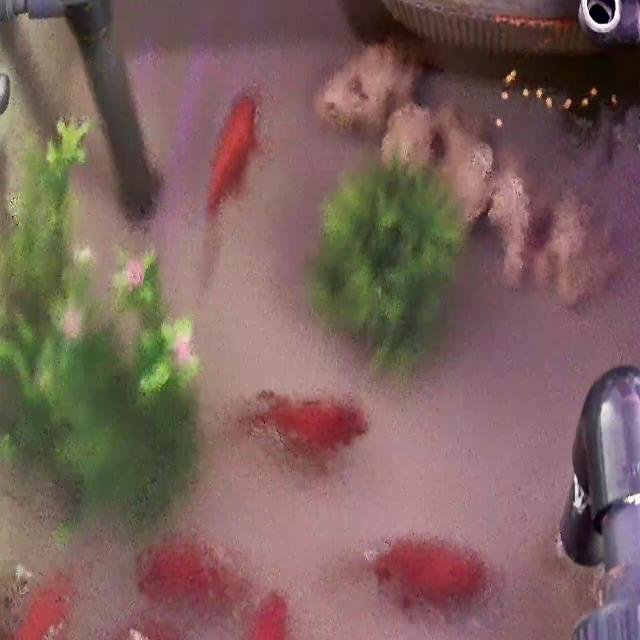fish: (366, 535, 483, 613), (239, 388, 362, 461), (133, 539, 248, 614), (204, 90, 259, 220), (0, 569, 75, 640), (225, 589, 289, 640)
